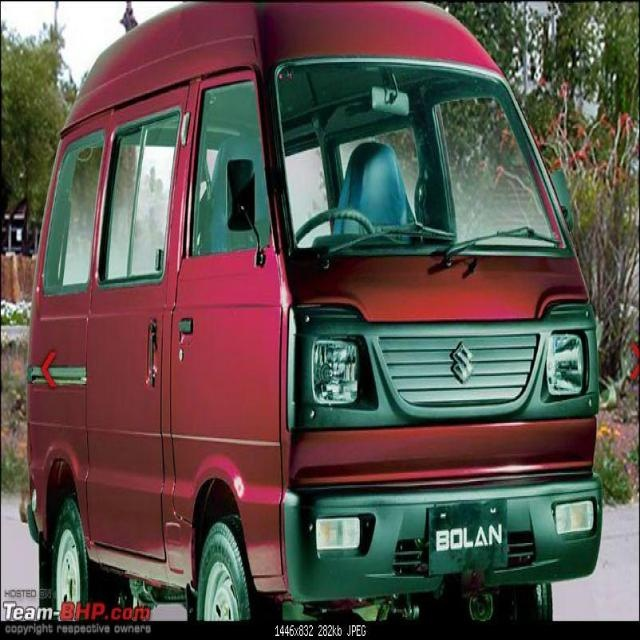Van: (22, 0, 602, 620)
